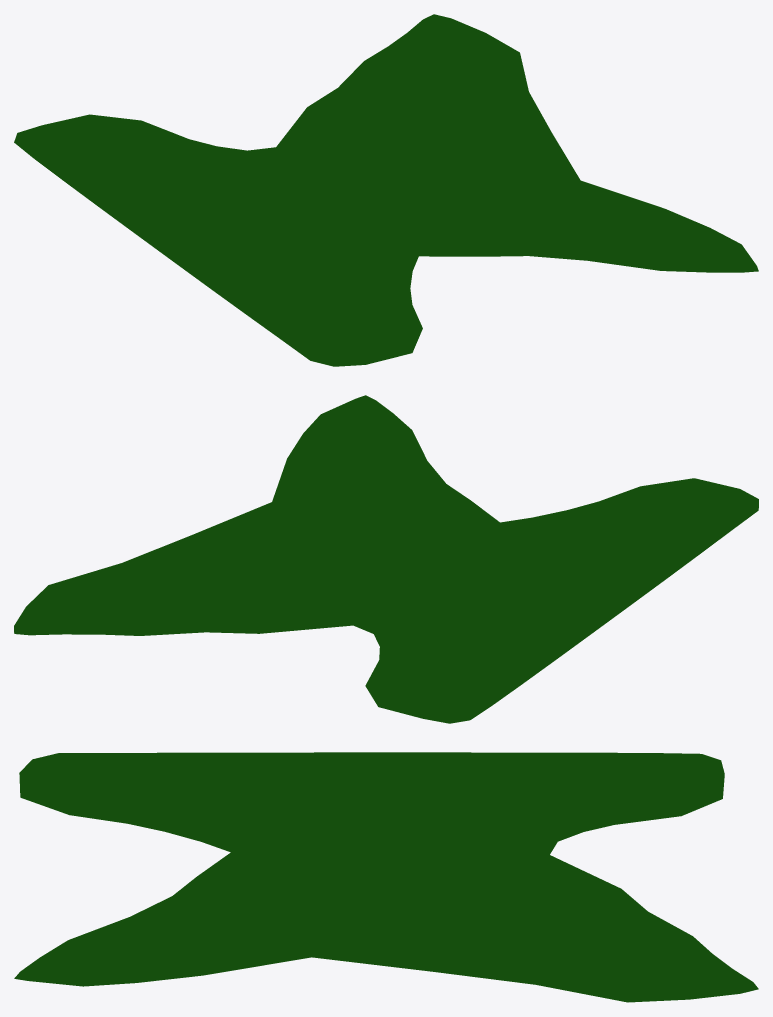
File: 2Andar.fbx
The picture shows the model from 3 angles, top to bottom: view 1: azimuth 30°, elevation 25°; view 2: azimuth 150°, elevation 25°; view 3: azimuth 270°, elevation 25°; orthographic projection. The views are drawn at different scales.
Parts seen in each view (by area): view 1: 2Andar; view 2: 2Andar; view 3: 2Andar.
Part boxes in pixels (x1,y1,x2,y2): 2Andar: [14, 14, 758, 366]; 2Andar: [14, 395, 758, 723]; 2Andar: [14, 752, 758, 1002].
Size of the model in its own units: 4783 by 1.91e-05 by 6023.
